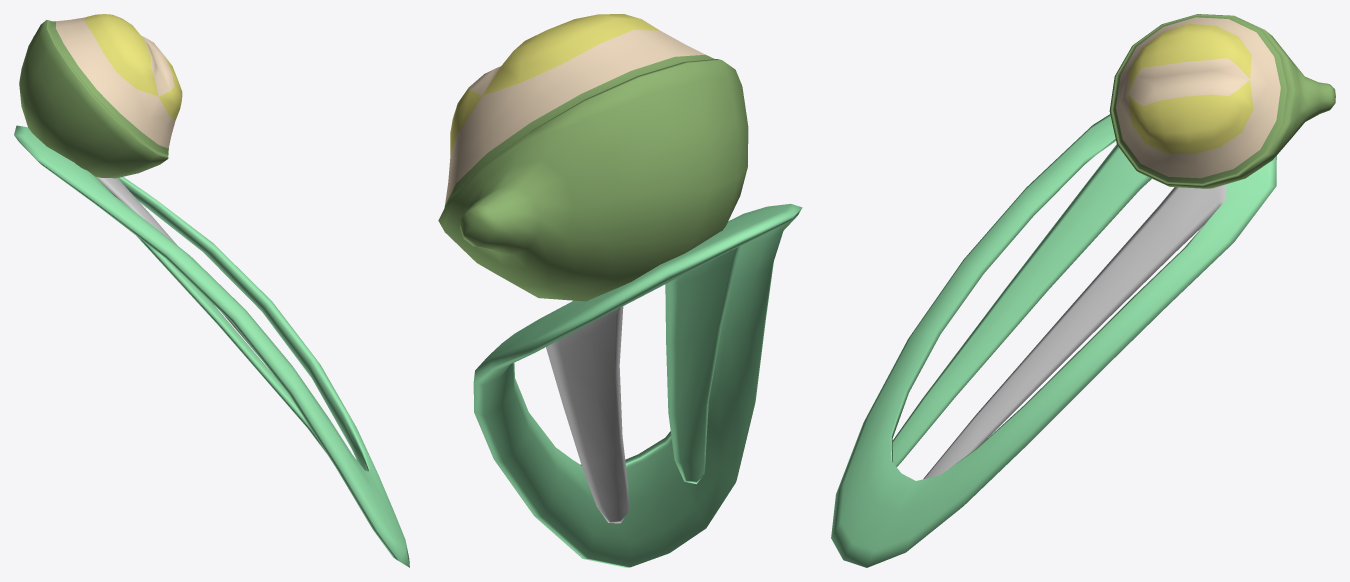
3 renders of one model, left to right at view 1: azimuth 30°, elevation 25°; view 2: azimuth 150°, elevation 25°; view 3: azimuth 270°, elevation 25°, orthographic. The views are drawn at different scales.
Visible parts, largest first — view 1: durian_hair_clip; view 2: durian_hair_clip; view 3: durian_hair_clip.
Boxes of the visible parts, box(x1,y1,x2,y2) form: durian_hair_clip: box(14, 14, 409, 567); durian_hair_clip: box(438, 14, 802, 567); durian_hair_clip: box(831, 14, 1335, 567).
Size of the model in its own units: 0.1938 by 0.3518 by 0.3445.
